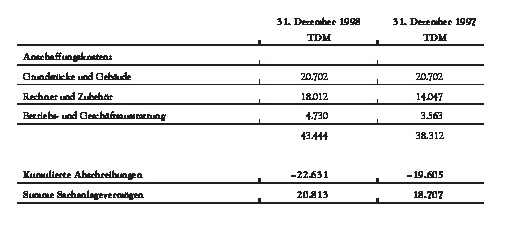table: (0, 0, 505, 226)
